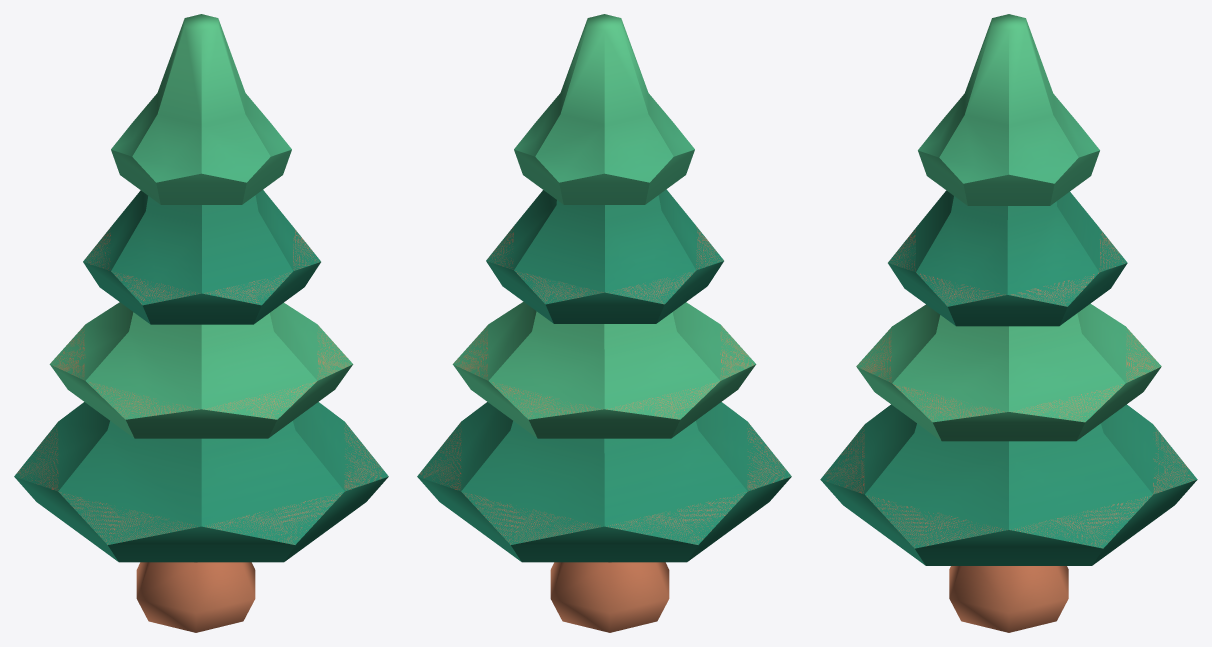
File: pine.002.001.001_lev1.glb
The picture shows the model from 3 angles, left to right: view 1: azimuth 30°, elevation 25°; view 2: azimuth 150°, elevation 25°; view 3: azimuth 270°, elevation 25°; orthographic projection.
Parts seen in each view (by area): view 1: pine.002.001.001_lev1; view 2: pine.002.001.001_lev1; view 3: pine.002.001.001_lev1.
Part boxes in pixels (x1,y1,x2,y2): pine.002.001.001_lev1: (14,14,388,632); pine.002.001.001_lev1: (417,14,791,632); pine.002.001.001_lev1: (820,14,1197,632).
Bounding box in the file's own units: 11.78 × 23.02 × 13.35.
1 material, 1 textured.
